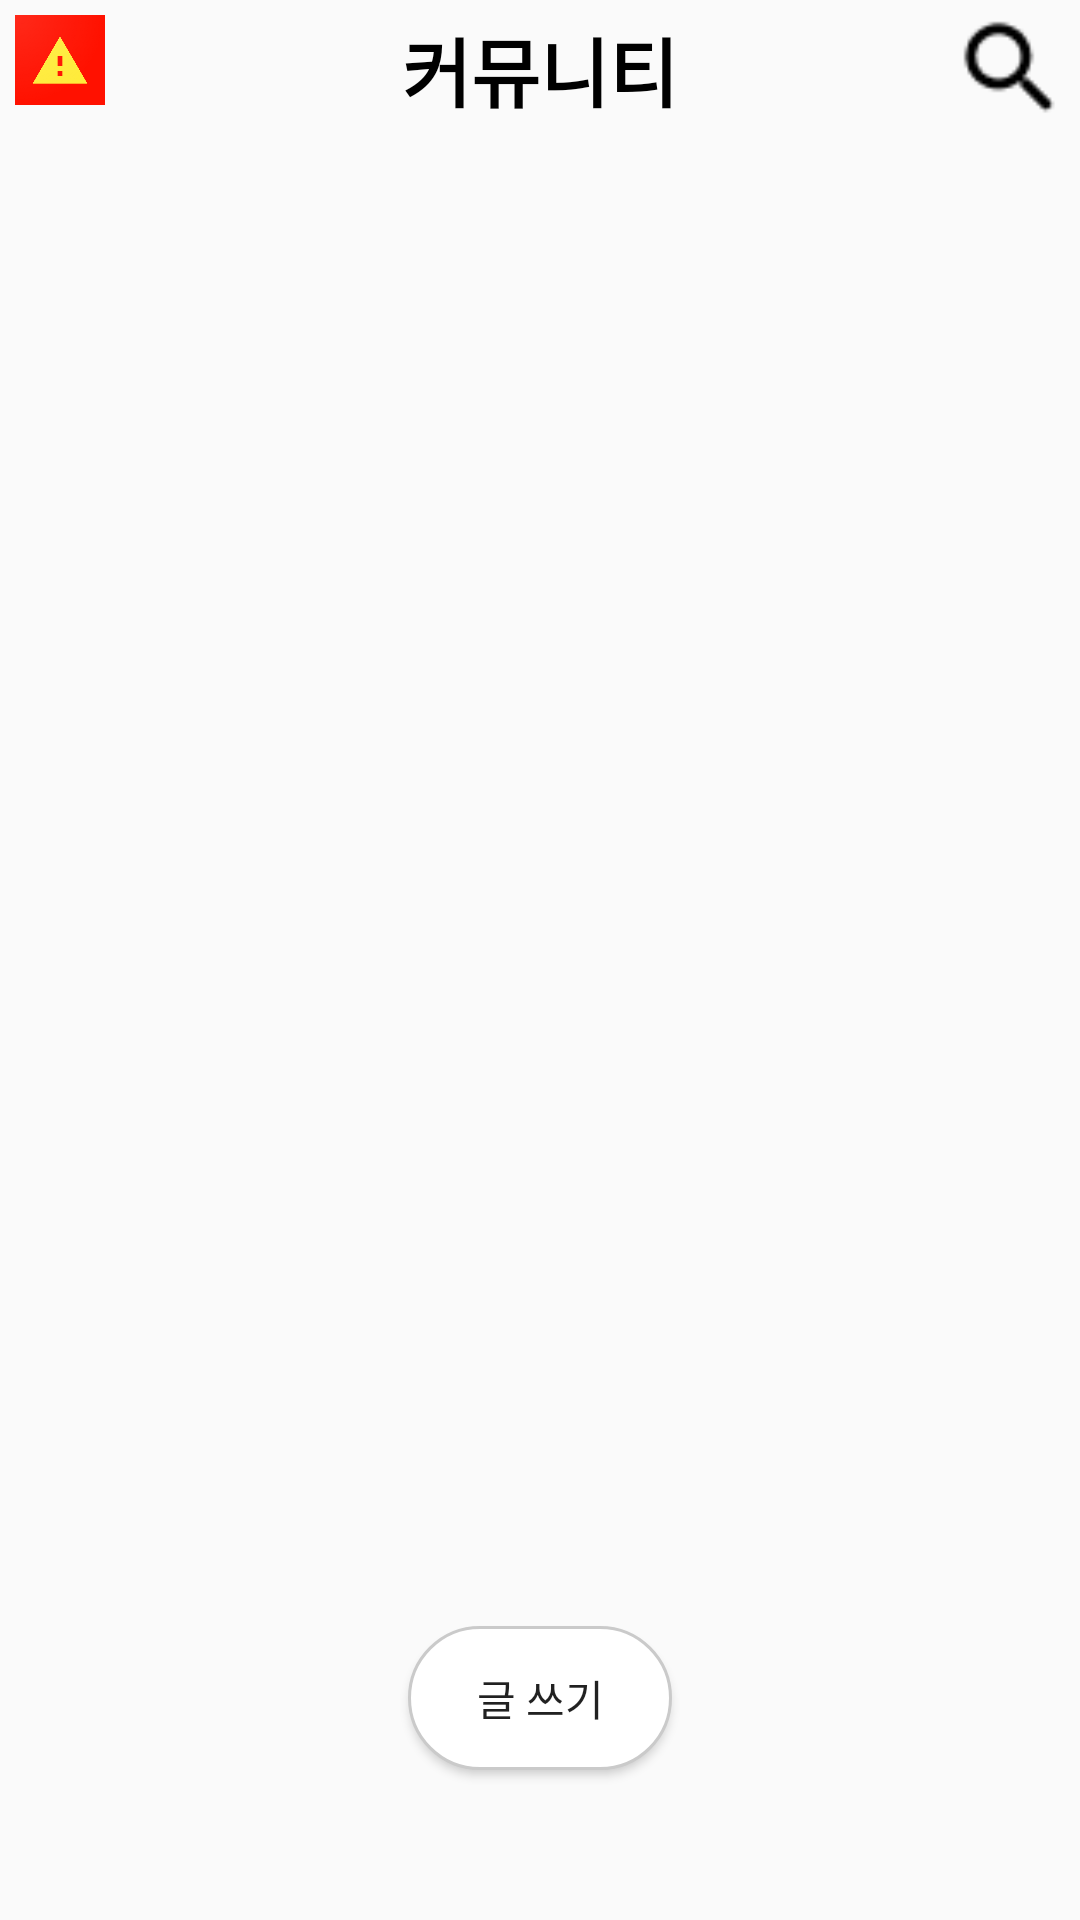

Named icons in this screenshot (1080w x 1920h) and their centers, [x,y]:
search post: [1009,67]
